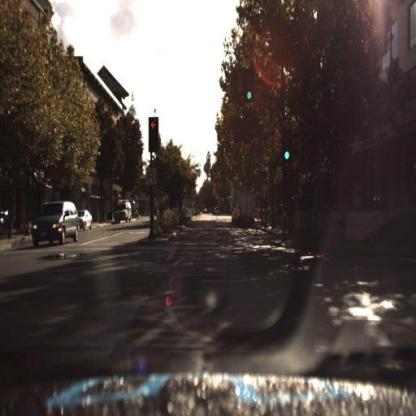car: (31, 199, 82, 240), (234, 182, 257, 229), (109, 194, 129, 219), (79, 208, 94, 231)
trafficLight: (246, 68, 256, 104)
trafficLight-Green: (287, 130, 293, 161)
trafficLight-RedLeft: (150, 113, 158, 146)
